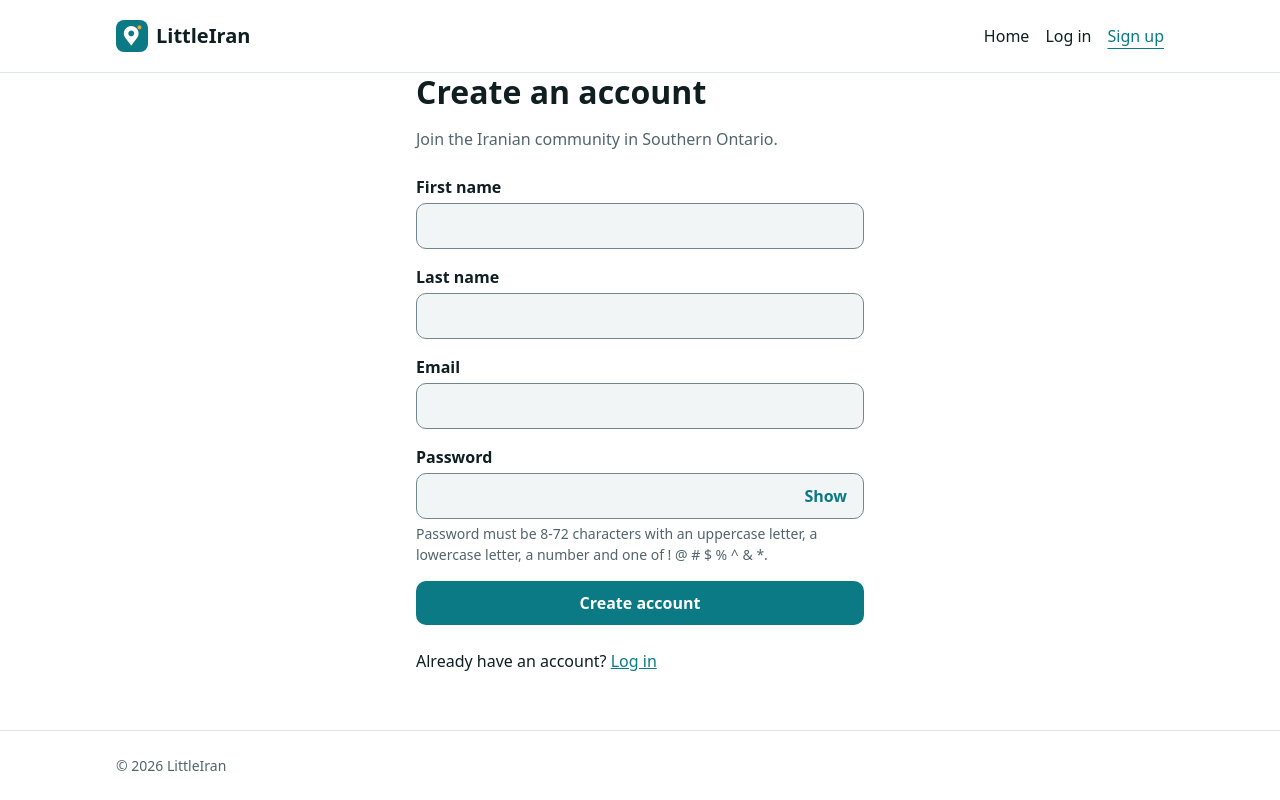
Test: Registration › rejects a malformed email before sending anything
In the field labelled "First name": (640, 226) [417,204,863,248], type "Cypress"
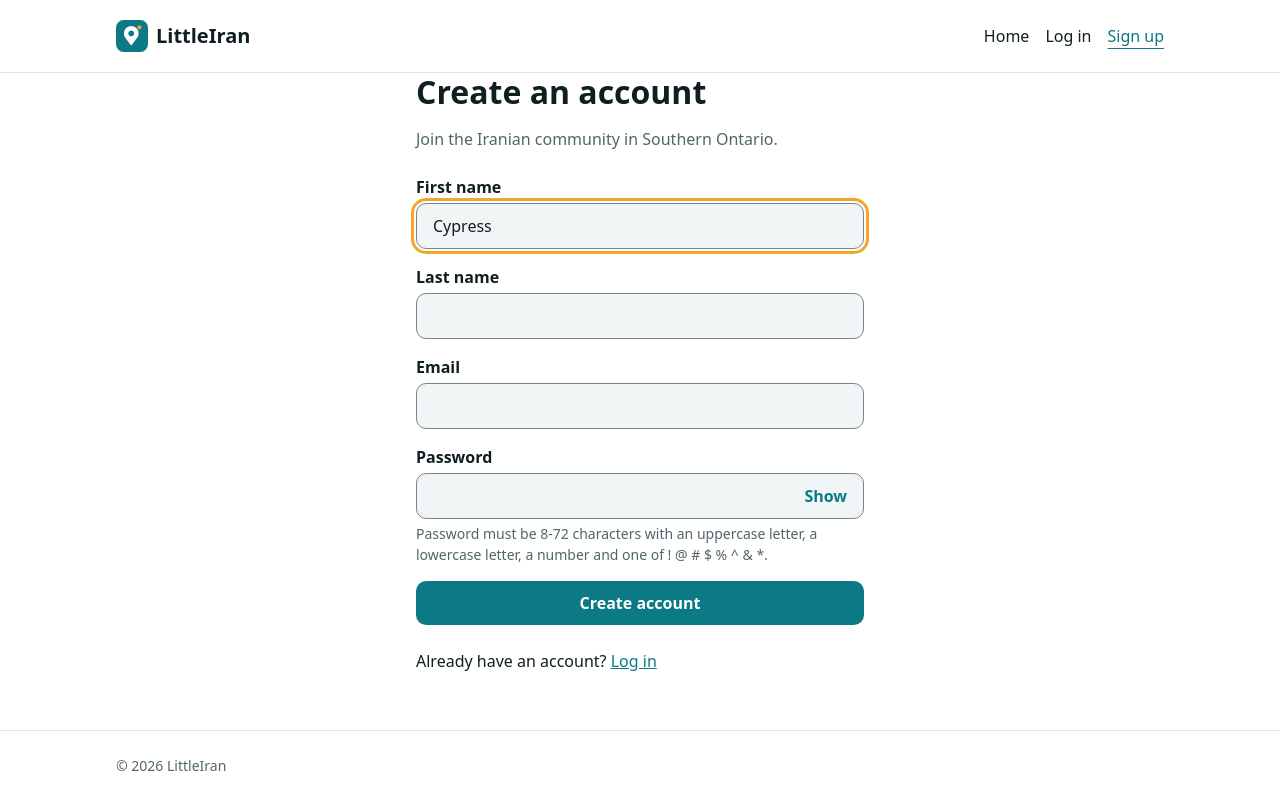
In the field labelled "Last name": (640, 316) [417,294,863,338], type "Tester"
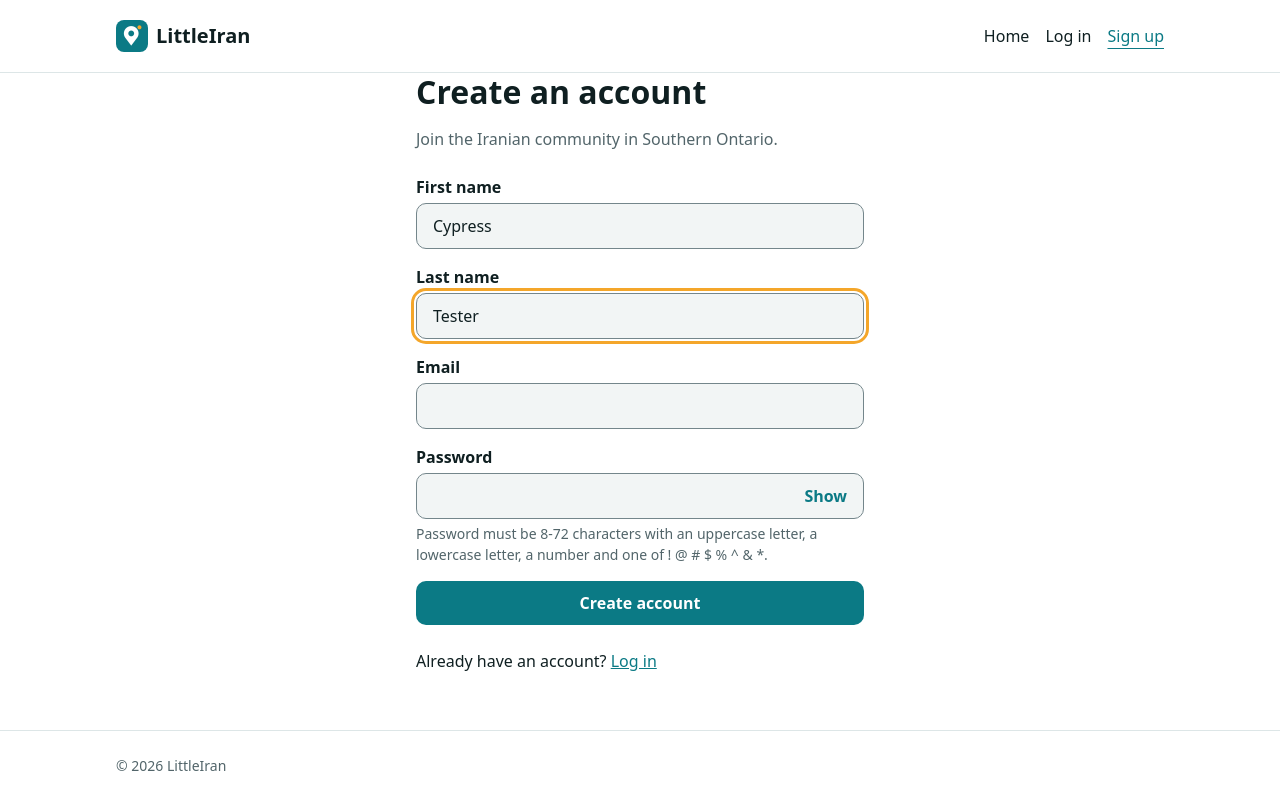
In the field labelled "Email": (640, 406) [417,384,863,428], type "test@invalid"
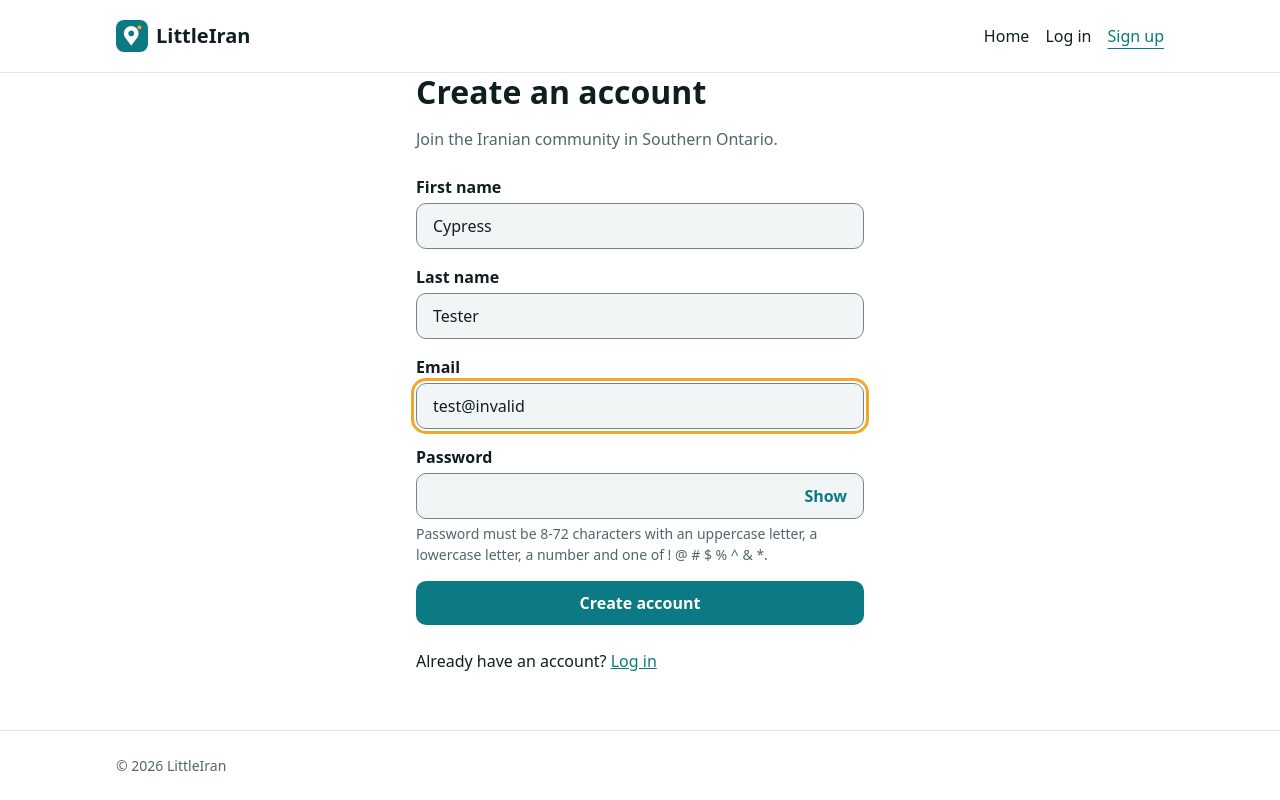
In the password field labelled "Password": (603, 496) [417,474,788,518], type "Strong1!"
Then press Enter
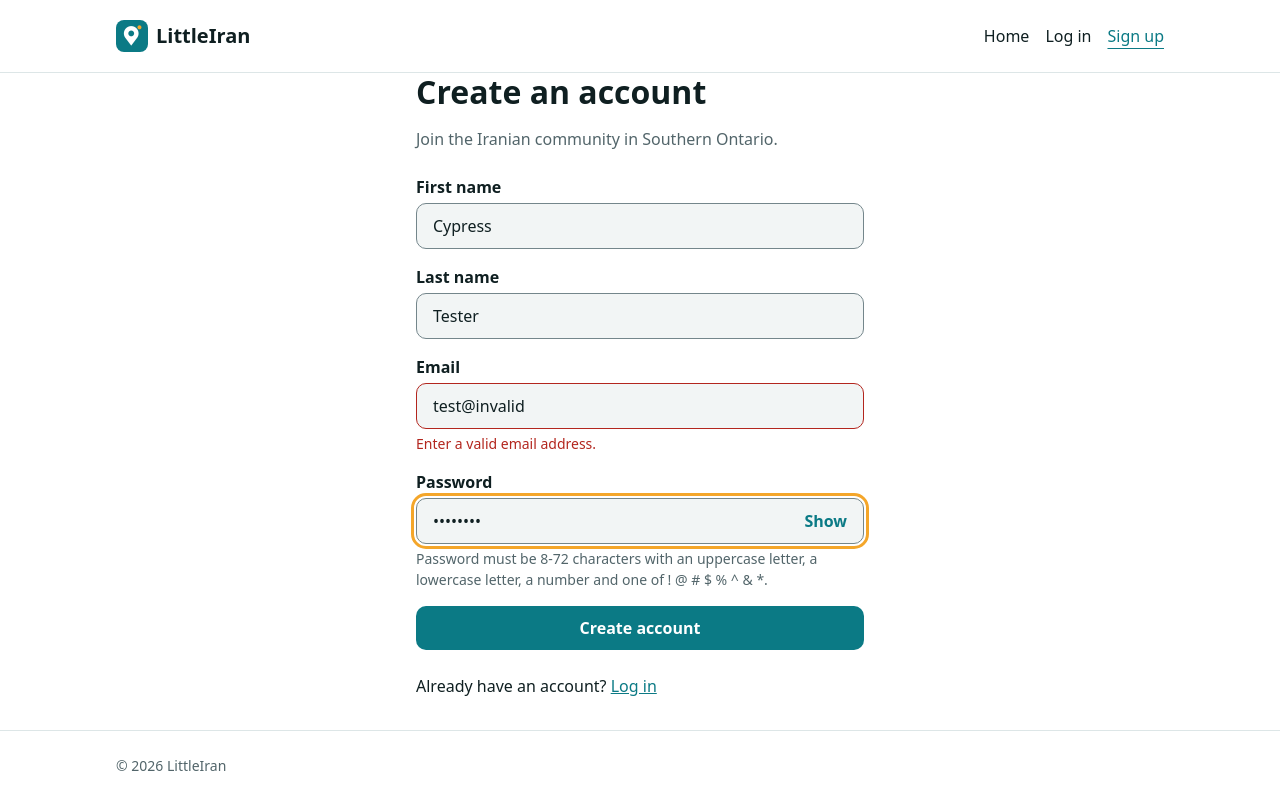
Expected: the text "Enter a valid email address." is shown, [416,434,596,453]
